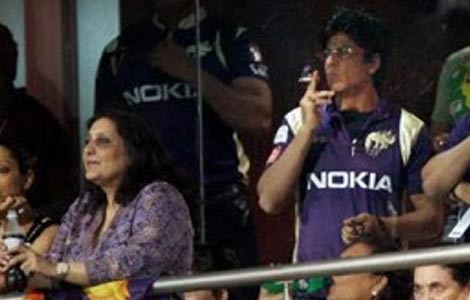cigarette: (294, 75, 316, 82)
